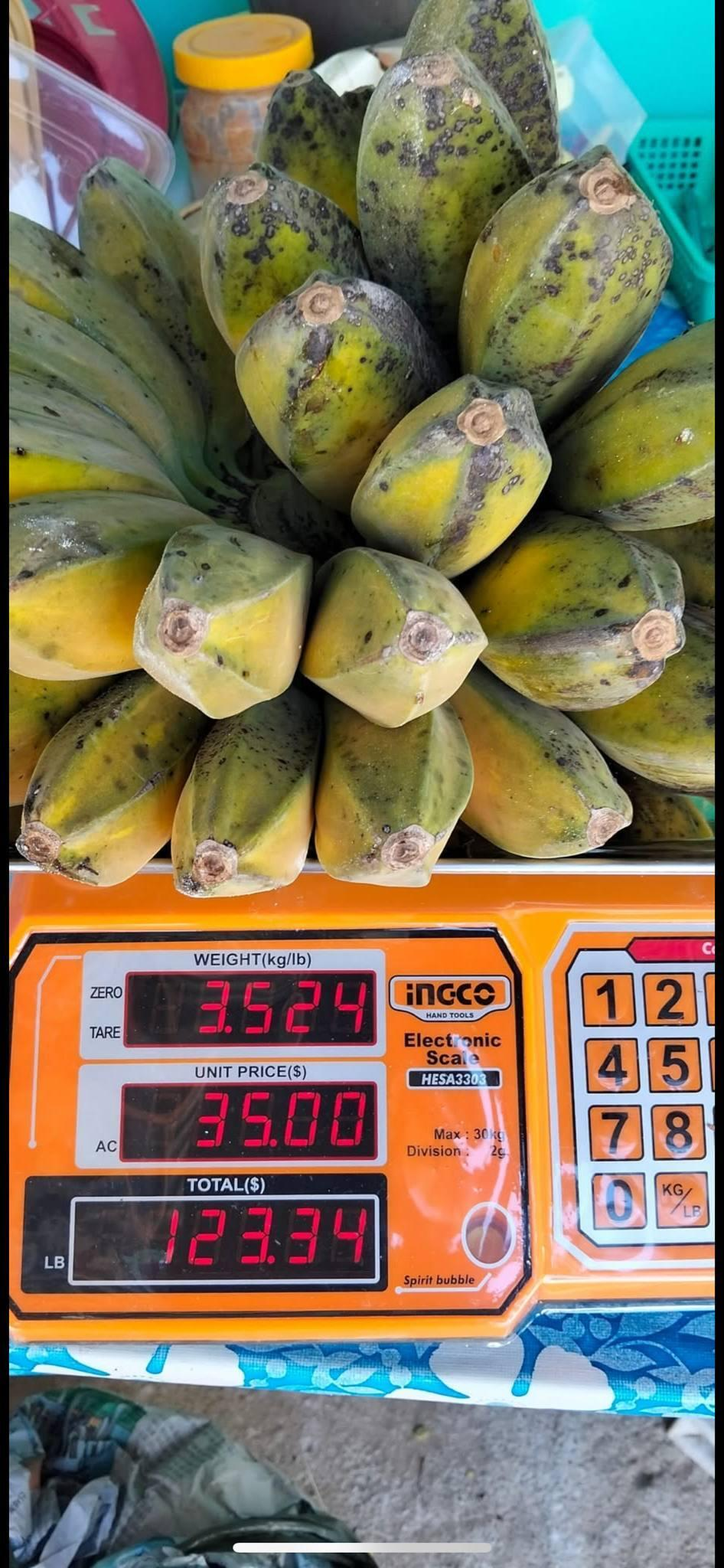underripe: (8, 155, 638, 899), (200, 0, 713, 794)
